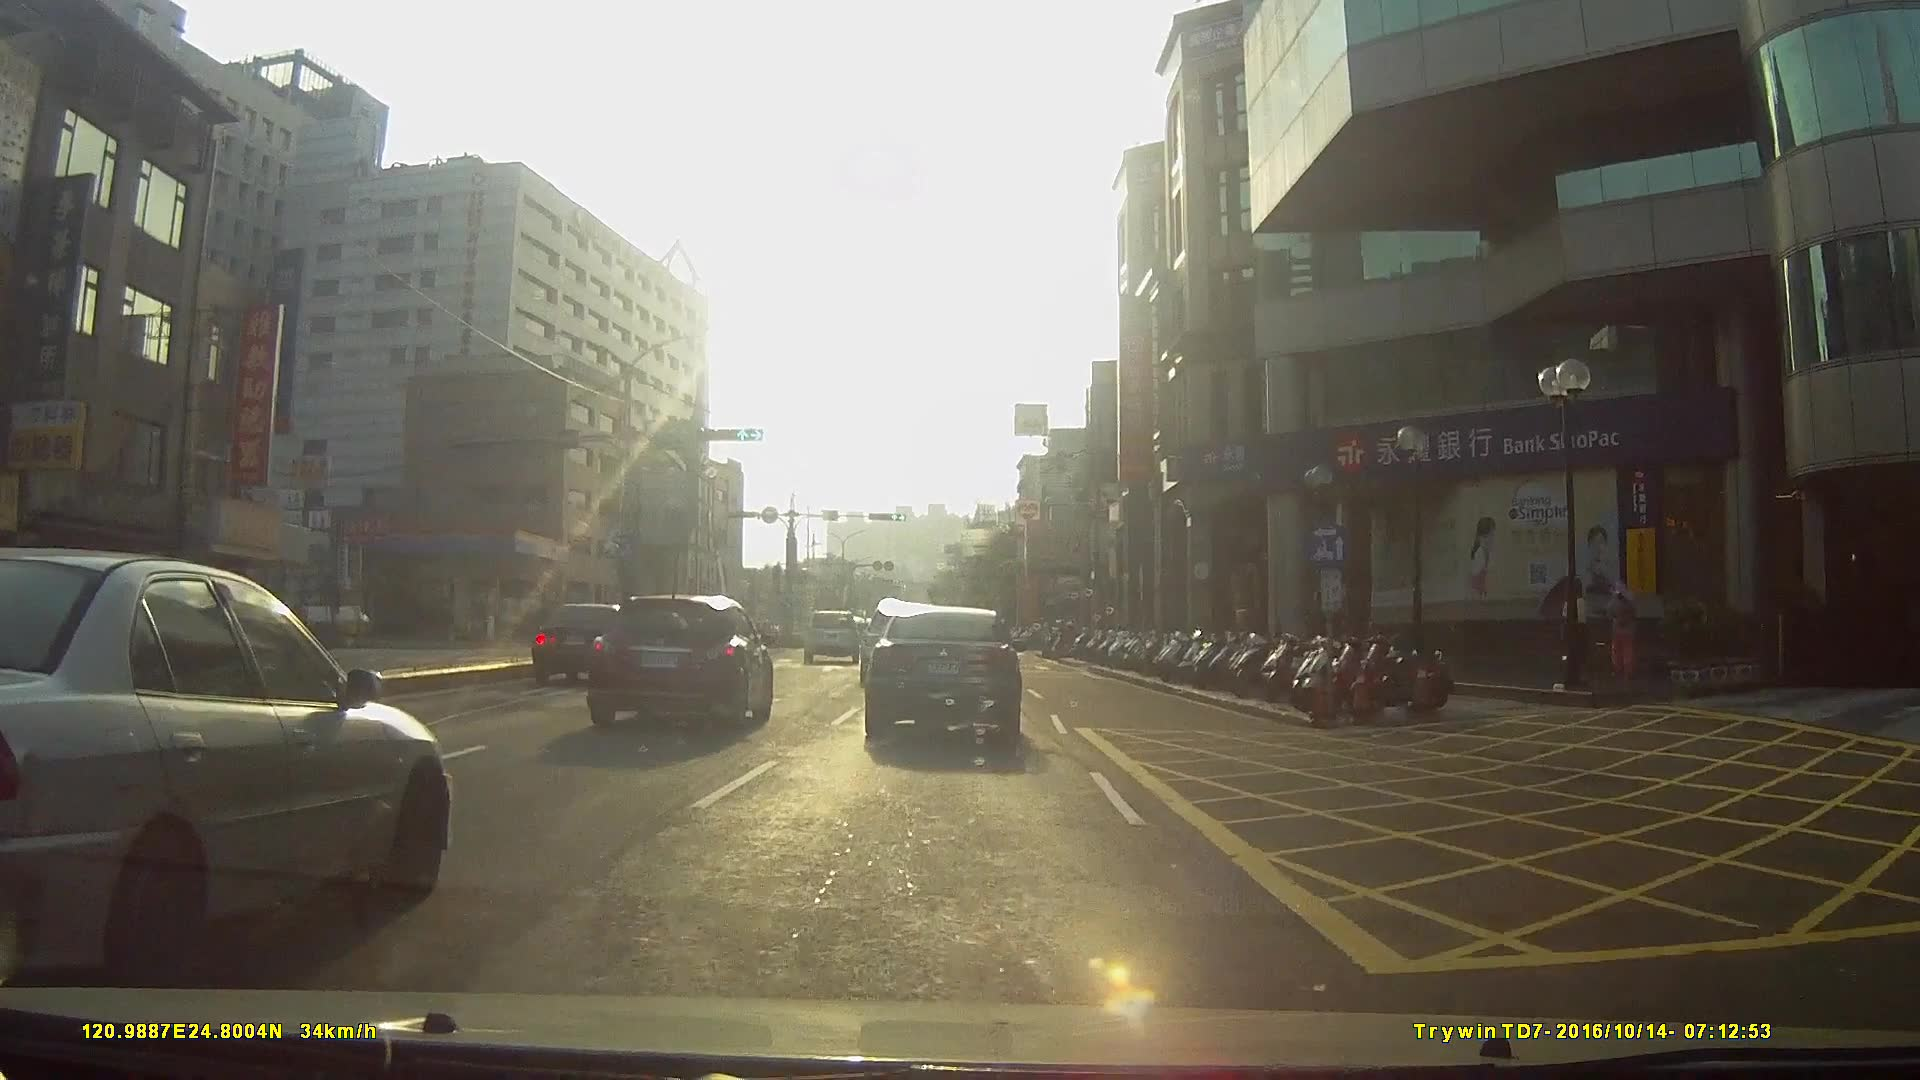pedestrian: (1601, 573, 1647, 696), (1549, 580, 1597, 693)
vehicle: (0, 547, 442, 1007), (580, 590, 769, 732), (863, 606, 1022, 748), (530, 602, 651, 687), (803, 610, 861, 665)
